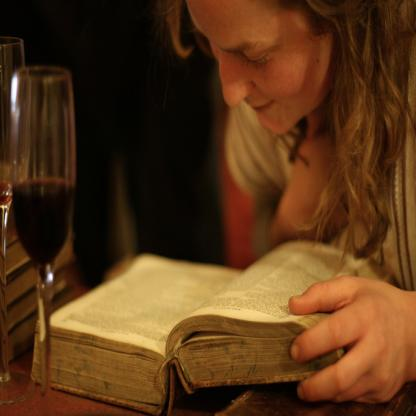book: (32, 246, 403, 416), (0, 160, 79, 358)
